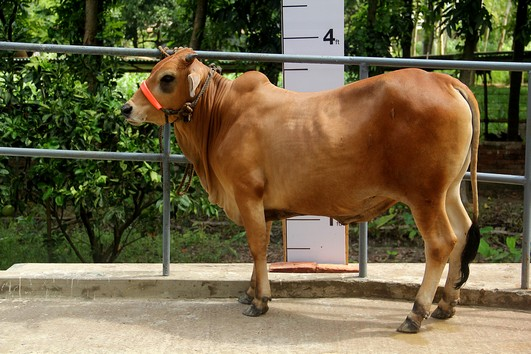cow: (110, 40, 482, 337)
